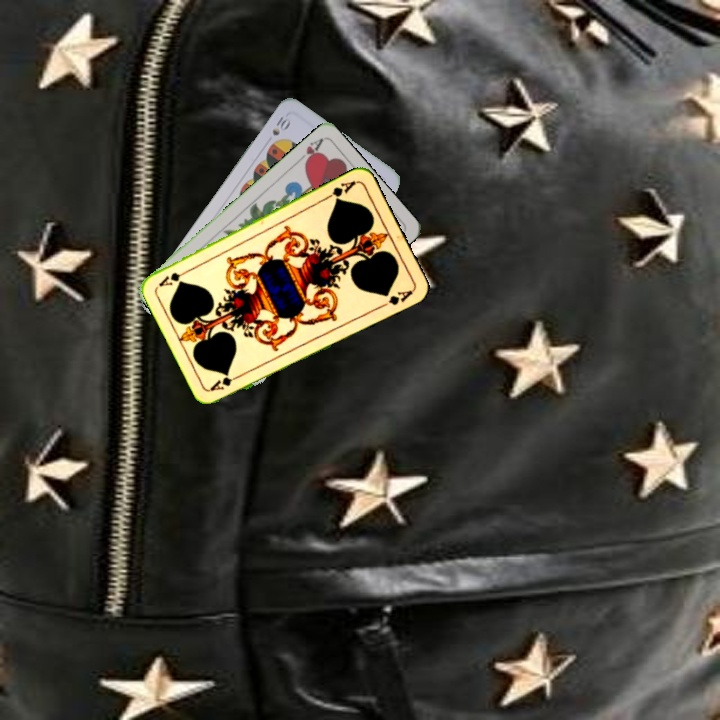GA: (321, 176, 359, 204), (206, 370, 245, 394)
HA: (292, 134, 326, 168)
S10: (268, 112, 293, 138)
